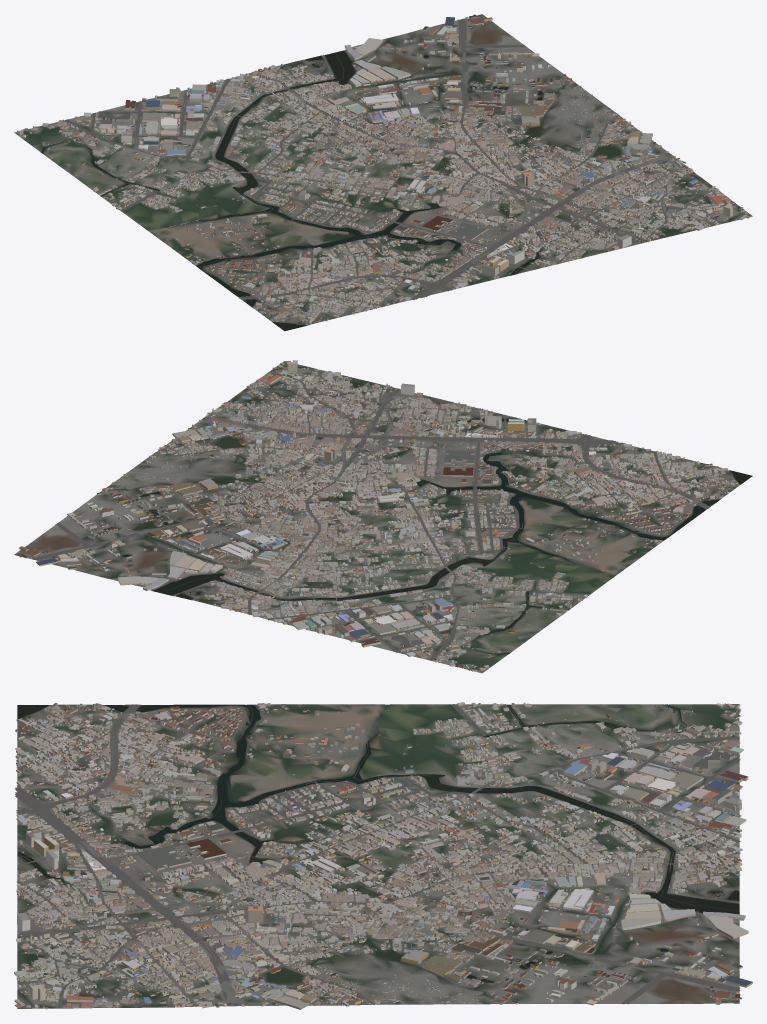
3 views of the same model, one above another, from view 1: azimuth 30°, elevation 25°; view 2: azimuth 150°, elevation 25°; view 3: azimuth 270°, elevation 25° (orthographic). The views are drawn at different scales.
Visible parts, largest first — view 1: ground, buildings, roads, water; view 2: ground, buildings, roads, water; view 3: ground, buildings, roads, water.
Boxes of the visible parts, left/top/right/bottom form: ground: left=15, top=14, right=752, bottom=331; buildings: left=17, top=14, right=750, bottom=324; roads: left=14, top=18, right=737, bottom=323; water: left=41, top=50, right=543, bottom=330; ground: left=14, top=361, right=752, bottom=672; buildings: left=19, top=360, right=739, bottom=672; roads: left=32, top=369, right=735, bottom=673; water: left=114, top=418, right=752, bottom=655; ground: left=17, top=704, right=739, bottom=1008; buildings: left=14, top=702, right=752, bottom=1009; roads: left=15, top=704, right=740, bottom=1008; water: left=17, top=704, right=739, bottom=985.
Bounding box in the file's own units: 2843 × 60.89 × 2866.
